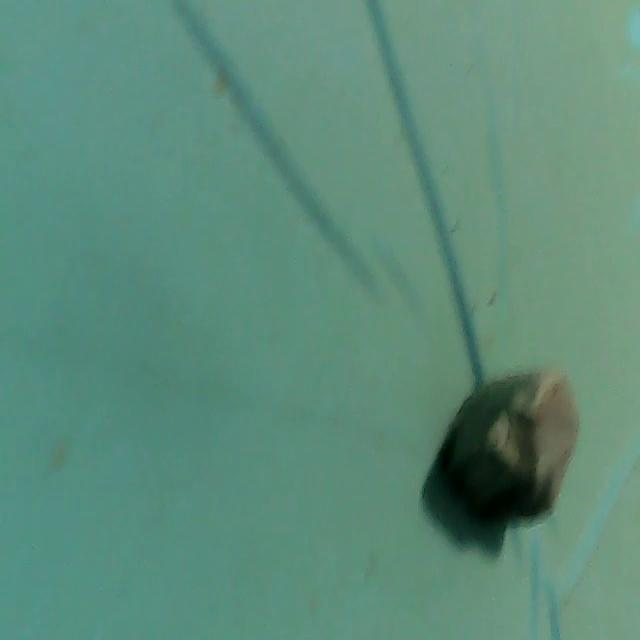rock: (437, 352, 584, 550)
